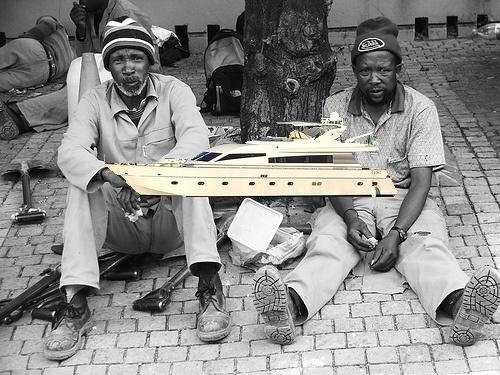tampered: (105, 97, 397, 197)
